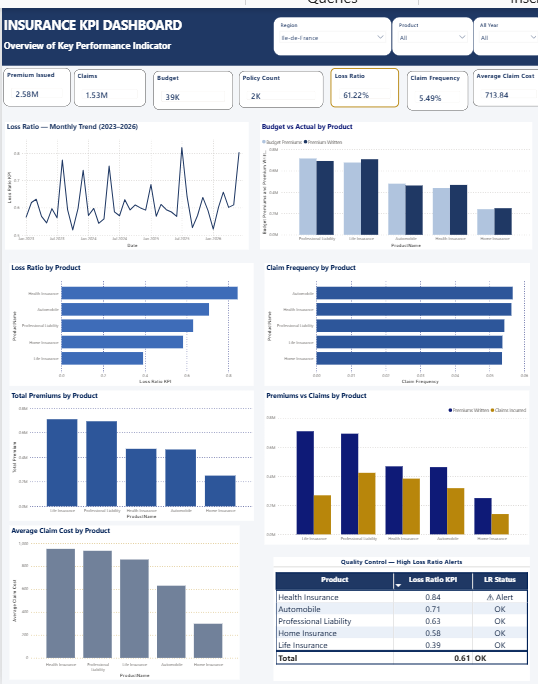

The dashboard page shown, as its layout file describes it:
{"tool":"powerbi","page":{"name":"Dashboard Overview","canvas":[1600,2000],"ordinal":0},"visuals":[{"type":"cardVisual","title":"Premium Issued      ","fields":{"Data":["Dim_Date.Total Premium"]},"box":[2.5,178.8,197.5,112.5],"z":0},{"type":"clusteredColumnChart","title":"Total Premiums by Product","fields":{"Category":["Dim_Product.ProductName"],"Y":["Dim_Date.Total Premium"]},"box":[22,1128,720,384],"z":1000},{"type":"textbox","box":[0,0,1600,170],"z":3000},{"type":"slicer","fields":{"Values":["Dim_Date.Year"]},"box":[1388,26,212,114],"z":4000},{"type":"slicer","fields":{"Values":["Dim_Product.ProductName"]},"box":[1148,26,240,114],"z":5000},{"type":"slicer","fields":{"Values":["Dim_Territory.Region"]},"box":[800,26,348,114],"z":6000},{"type":"cardVisual","title":"Claims","fields":{"Data":["Dim_Date.Total Claims"]},"box":[212,182,211.2,108.8],"z":7000},{"type":"cardVisual","title":"Budget","fields":{"Data":["Dim_Date.Policy Count"]},"box":[448,184,234,114],"z":8000},{"type":"cardVisual","title":"Policy Count","fields":{"Data":["Dim_Date.Claim Count"]},"box":[700,184,248,108],"z":9000},{"type":"cardVisual","title":"Loss Ratio","fields":{"Data":["Fact_Claims.Loss Ratio KPI"]},"box":[968,178,202,116],"z":10000},{"type":"clusteredBarChart","title":"Loss Ratio by Product","fields":{"Category":["Dim_Product.ProductName"],"Y":["Fact_Claims.Loss Ratio KPI"]},"box":[22.7,749.3,719.3,362],"z":11000},{"type":"lineChart","title":"Loss Ratio — Monthly Trend (2023–2026)","fields":{"Category":["Dim_Date.Date"],"Y":["Fact_Claims.Loss Ratio KPI"]},"box":[10,338,718,376],"z":12000},{"type":"cardVisual","title":"Claim Frequency","fields":{"Data":["Dim_Date.Claim Frequency"]},"box":[1194,184,180,116],"z":13000},{"type":"cardVisual","title":"Average Claim Cost","fields":{"Data":["Dim_Date.Average Claim Cost"]},"box":[1386,182,214,108],"z":14000},{"type":"clusteredColumnChart","title":"Average Claim Cost by Product","fields":{"Category":["Dim_Product.ProductName"],"Y":["Dim_Date.Average Claim Cost"]},"box":[22,1526,678,454],"z":15000},{"type":"clusteredBarChart","title":"Claim Frequency by Product","fields":{"Category":["Dim_Product.ProductName"],"Y":["Dim_Date.Claim Frequency"]},"box":[772,750,782,362],"z":16000},{"type":"clusteredColumnChart","title":"Budget vs Actual by Product","fields":{"Category":["Dim_Product.ProductName"],"Y":["Sum(Fact_Budget.BudgetPremiums)","Sum(Fact_Premiums.PremiumWritten)"]},"box":[762,338,802,375.3],"z":17000},{"type":"tableEx","title":"Quality Control — High Loss Ratio Alerts","fields":{"Values":["Dim_Product.ProductName","Fact_Claims.Loss Ratio KPI","Dim_Date.LR Status"]},"box":[800,1615,755,365],"z":18000},{"type":"clusteredColumnChart","title":"Premiums vs Claims by Product","fields":{"Category":["Dim_Product.ProductName"],"Y":["Sum(Fact_Premiums.PremiumWritten)","Sum(Fact_Claims.TotalClaims)"]},"box":[774,1128,780,454],"z":19000}]}

Visuals, with their boxes in screenshot pixels (x1, y1, x2, y2), scaled from the page's 1600x2000 canvas onto the 538x684 screenshot:
"Premium Issued      " cardVisual: (left=1, top=61, right=67, bottom=100)
"Total Premiums by Product" clusteredColumnChart: (left=7, top=386, right=249, bottom=517)
textbox: (left=0, top=0, right=537, bottom=58)
slicer - Dim_Date.Year: (left=467, top=9, right=537, bottom=48)
slicer - Dim_Product.ProductName: (left=386, top=9, right=467, bottom=48)
slicer - Dim_Territory.Region: (left=269, top=9, right=386, bottom=48)
"Claims" cardVisual: (left=71, top=62, right=142, bottom=99)
"Budget" cardVisual: (left=151, top=63, right=229, bottom=102)
"Policy Count" cardVisual: (left=235, top=63, right=319, bottom=100)
"Loss Ratio" cardVisual: (left=325, top=61, right=393, bottom=101)
"Loss Ratio by Product" clusteredBarChart: (left=8, top=256, right=249, bottom=380)
"Loss Ratio — Monthly Trend (2023–2026)" lineChart: (left=3, top=116, right=245, bottom=244)
"Claim Frequency" cardVisual: (left=401, top=63, right=462, bottom=103)
"Average Claim Cost" cardVisual: (left=466, top=62, right=537, bottom=99)
"Average Claim Cost by Product" clusteredColumnChart: (left=7, top=522, right=235, bottom=677)
"Claim Frequency by Product" clusteredBarChart: (left=260, top=256, right=523, bottom=380)
"Budget vs Actual by Product" clusteredColumnChart: (left=256, top=116, right=526, bottom=244)
"Quality Control — High Loss Ratio Alerts" tableEx: (left=269, top=552, right=523, bottom=677)
"Premiums vs Claims by Product" clusteredColumnChart: (left=260, top=386, right=523, bottom=541)
